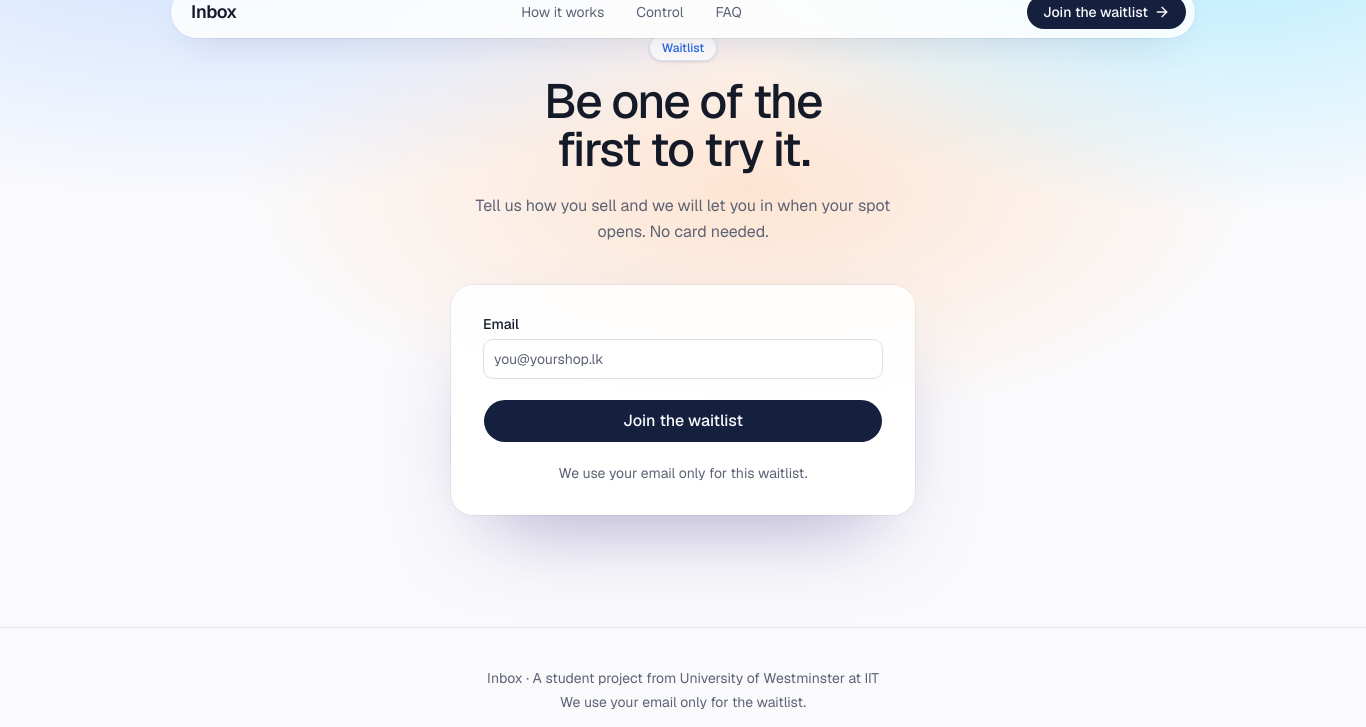
Test case: waitlist form › confirms the join, then offers three optional questions
The image size is (1366, 727).
(page scrolled)
Type "nimali@example.com" into the field labelled "Email".
click(683, 359); type("nimali@example.com")  # box [483,339,883,379]
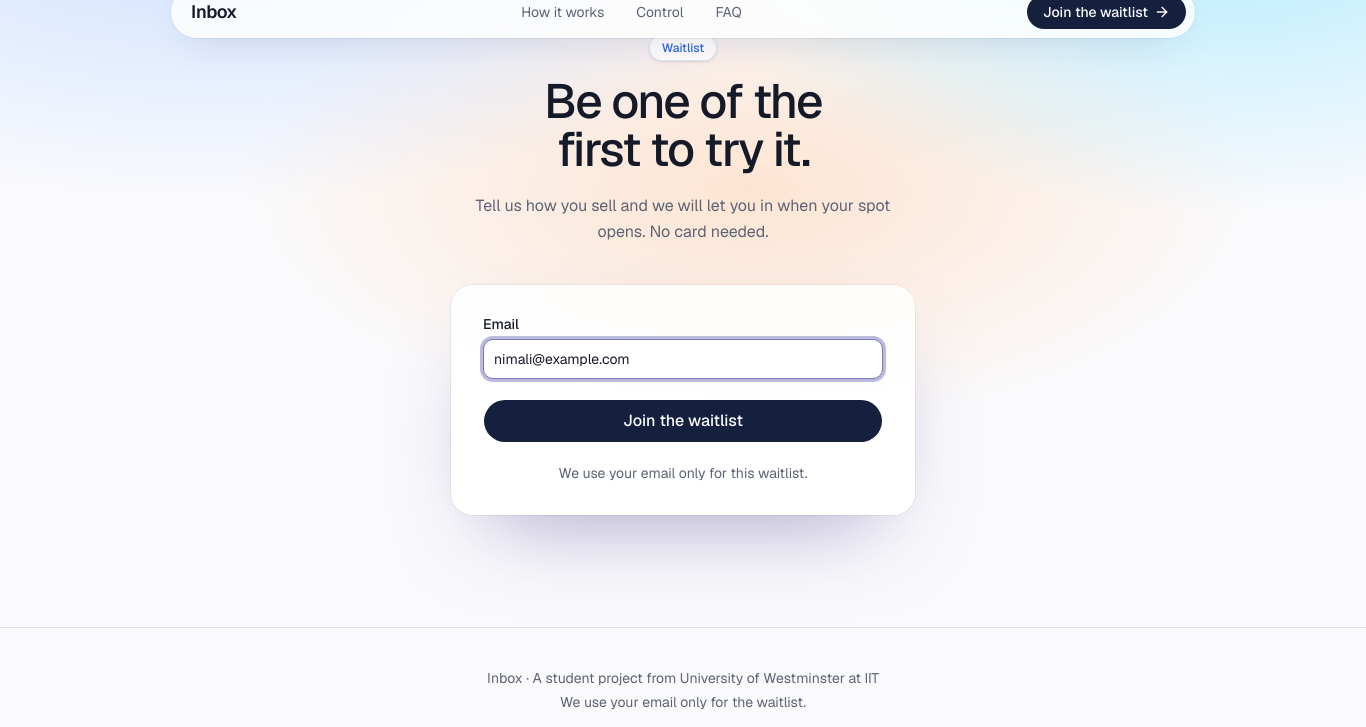
Click the button "Join the waitlist".
click(683, 421)  # box [483,399,883,443]
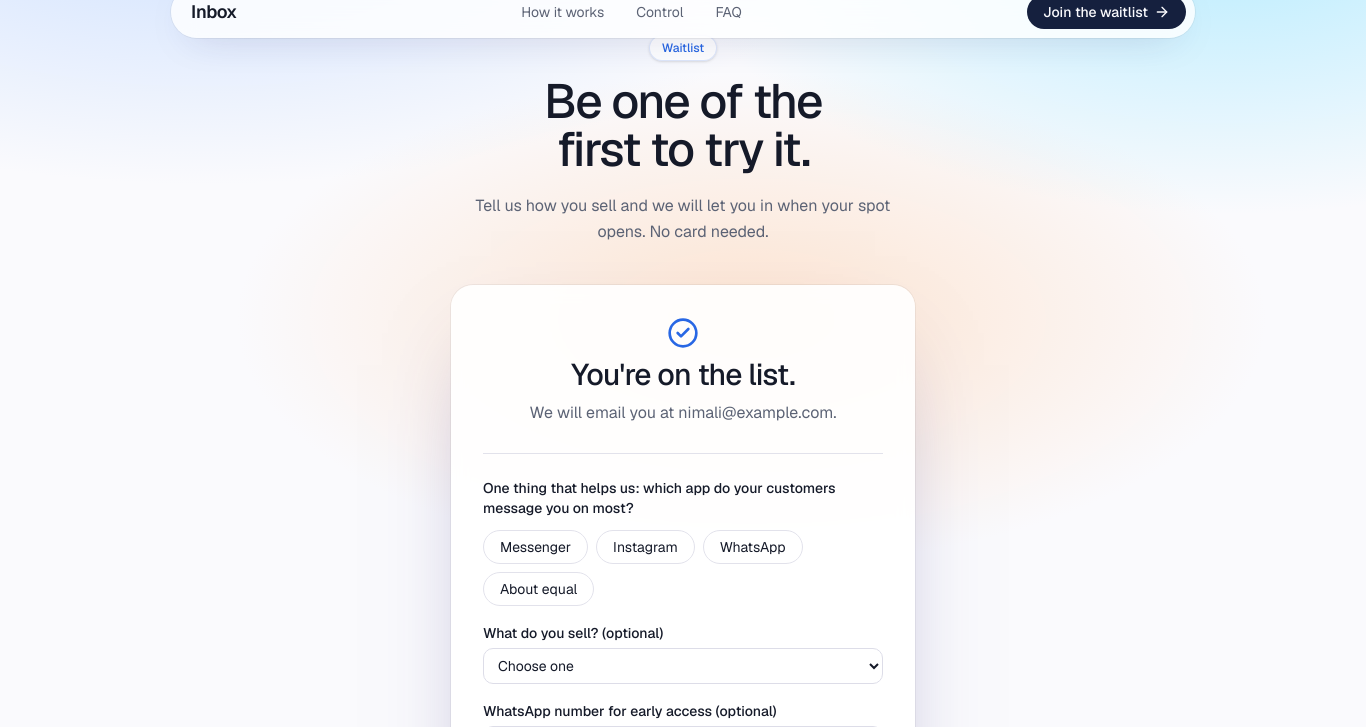
Expected: the text "You're on the list." is shown, [571,357,795,393]
Expected: the text "We will email you at nimali@example.com." is shown, [530,401,836,425]
Click the button "Instagram".
click(645, 547)  # box [596,530,695,564]
(page scrolled)
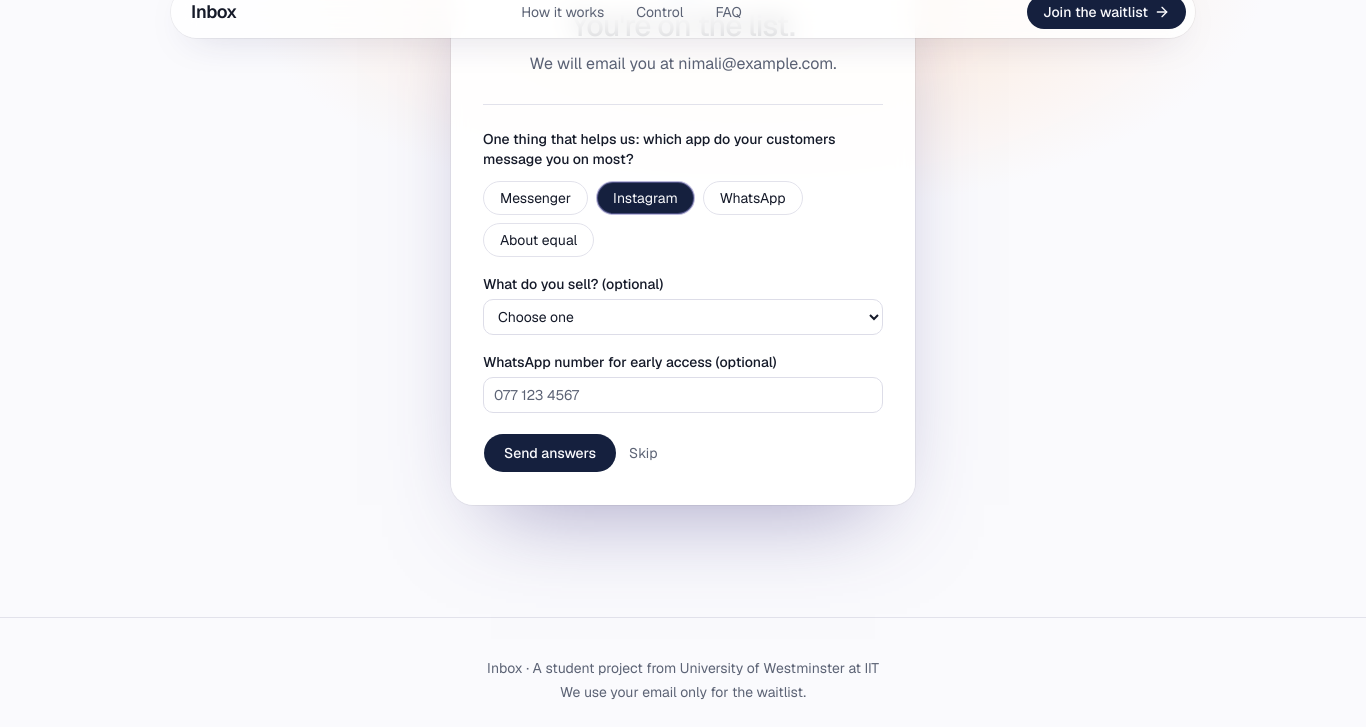
Click the button "Send answers".
click(550, 453)  # box [483,433,617,473]
(page scrolled)
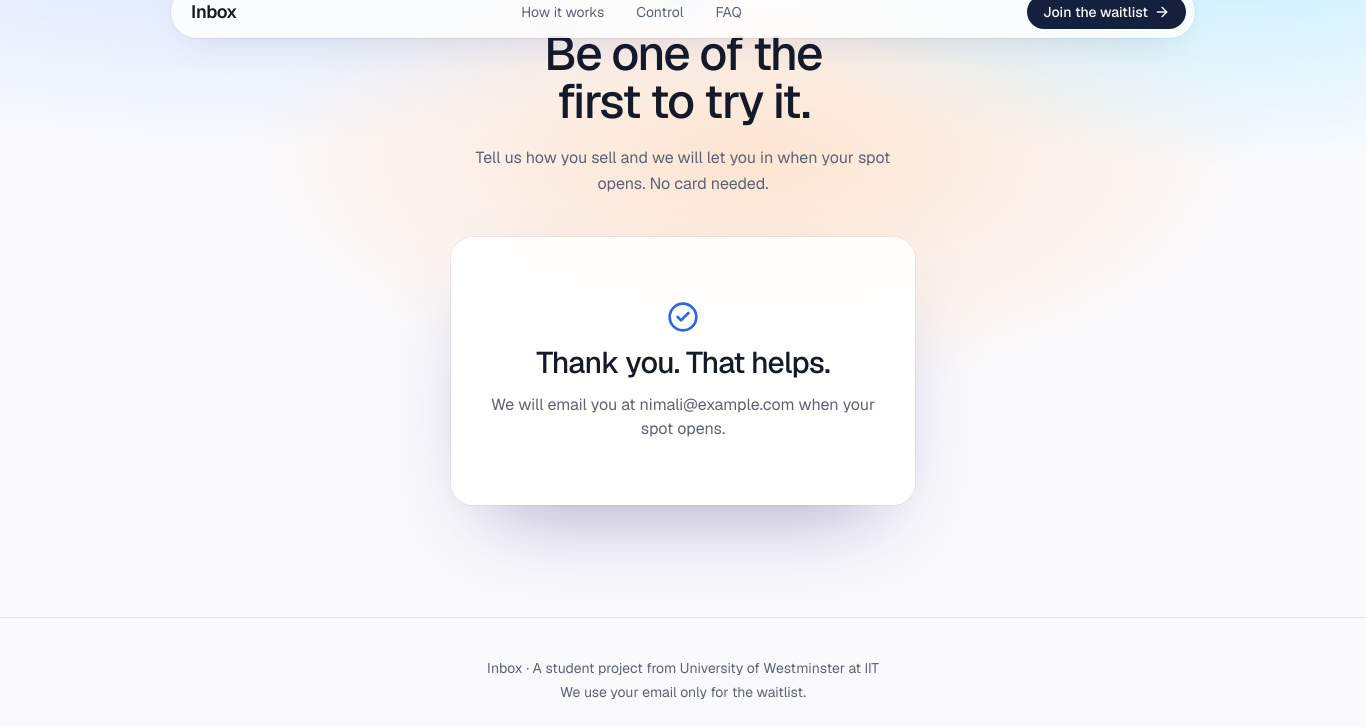
Expected: the text "Thank you. That helps." is shown, [536,345,830,381]
